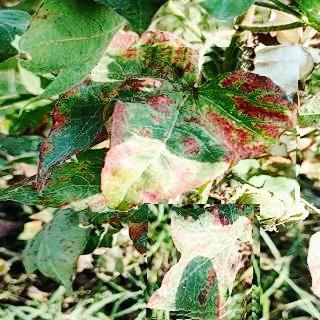blight: (72, 47, 300, 212), (138, 204, 260, 320)
